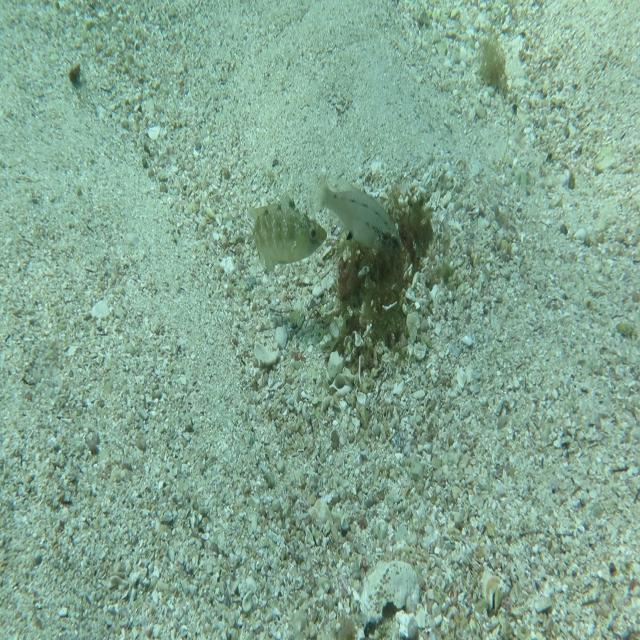GB: (244, 185, 328, 278)
female: (307, 159, 406, 261)
nest: (320, 153, 440, 376)
